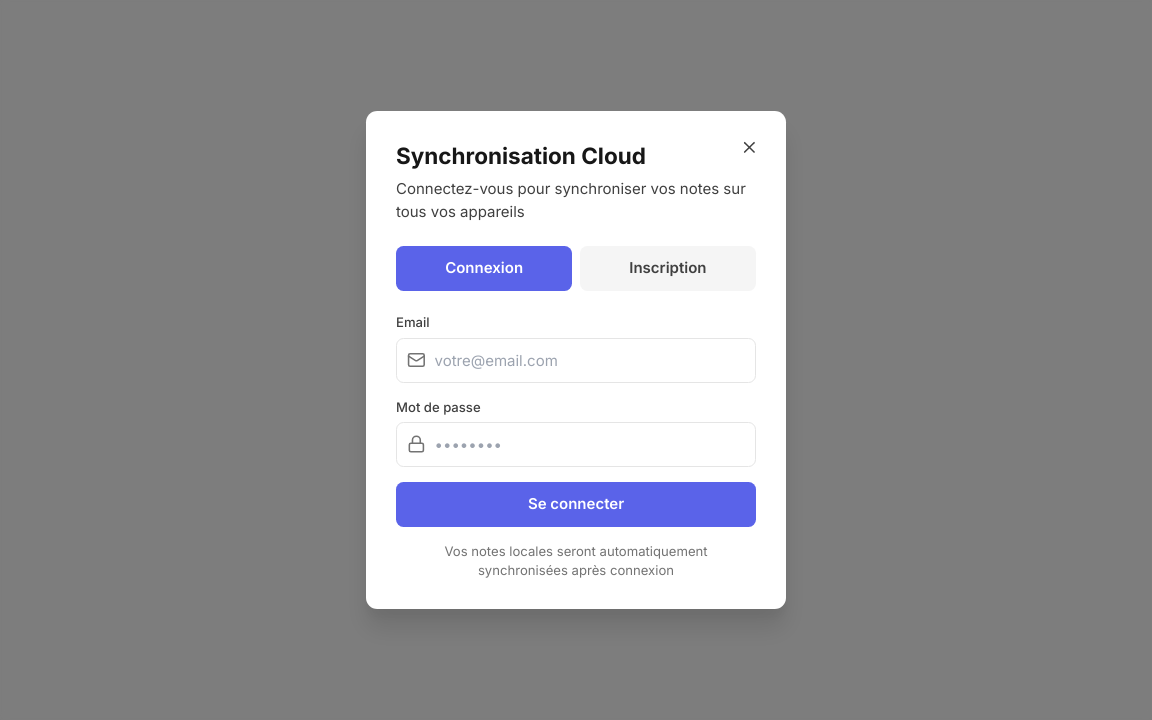
AuthModal › Tab Navigation › should switch to signup tab when clicking inscription
The width and height of the screenshot is (1152, 720).
Click the button "Inscription": (668, 268) x1=580 y1=246 x2=756 y2=291
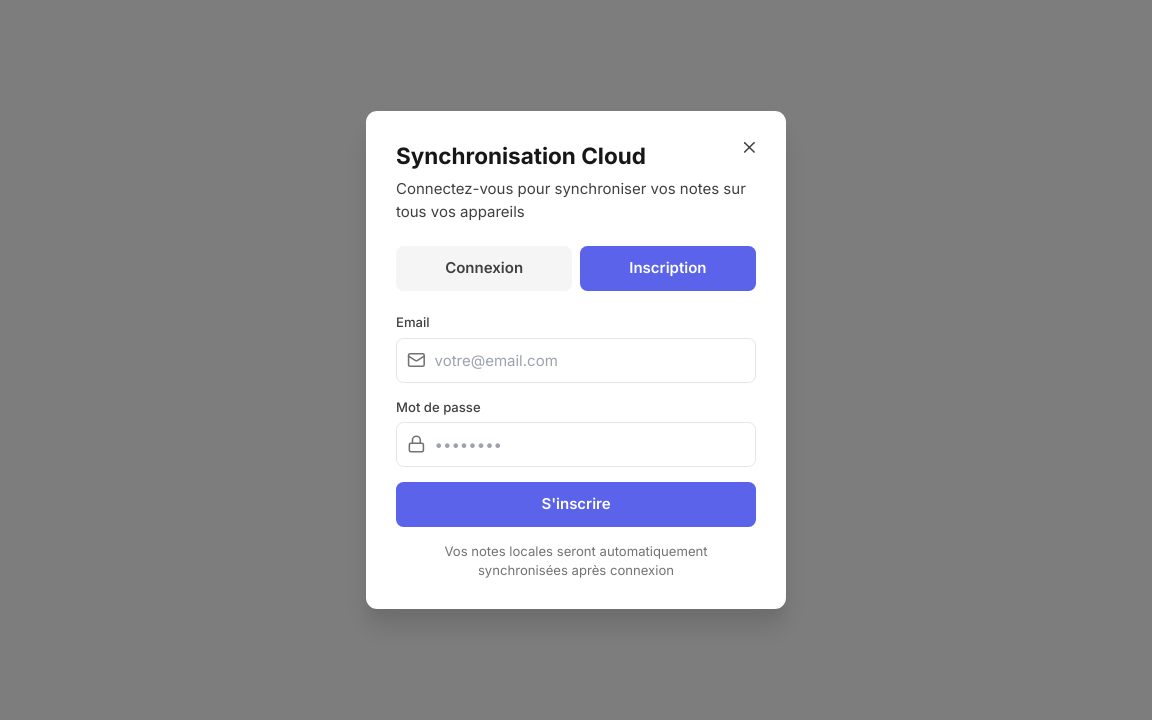
Expected: the button "S'inscrire" is shown, x1=396 y1=482 x2=756 y2=527
